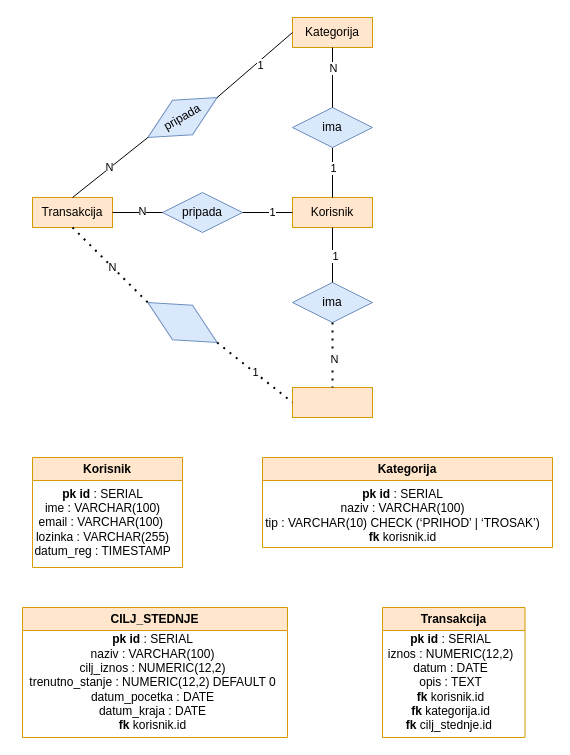
Some shapes in this 570 by 755 pixel diagram are drawn without their labels. Here are the shapes that lost their labels. From the top down, the centre of each, then its label:
point (182, 322): doprinosi
point (332, 402): CiljStednje
